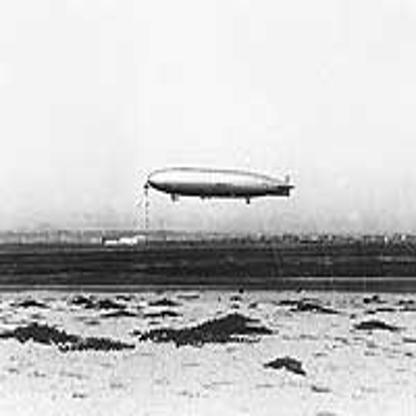Airship: (146, 163, 299, 206)
